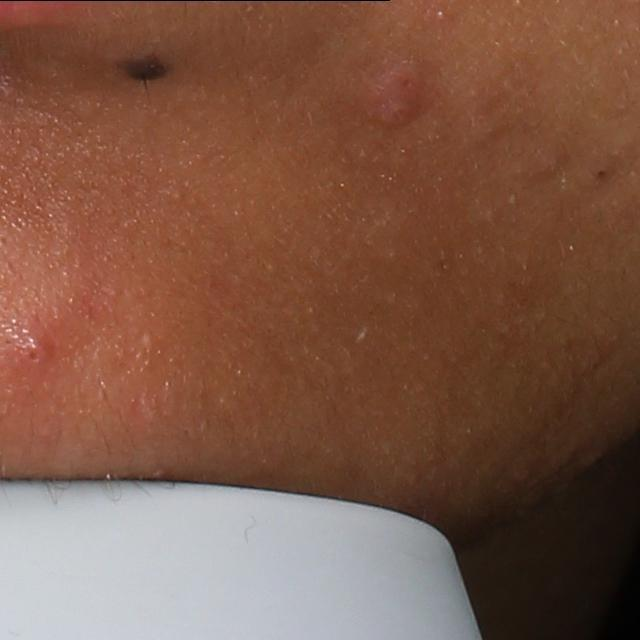nevus: (123, 60, 165, 85)
papule: (369, 67, 425, 135), (20, 330, 56, 372)
